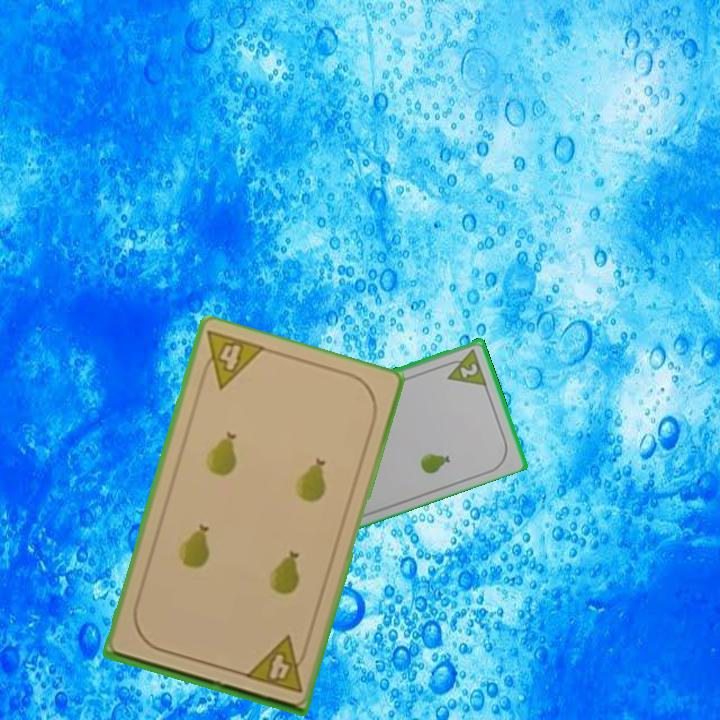2p: (440, 345, 490, 388)
4p: (194, 327, 268, 393), (241, 633, 311, 695)
